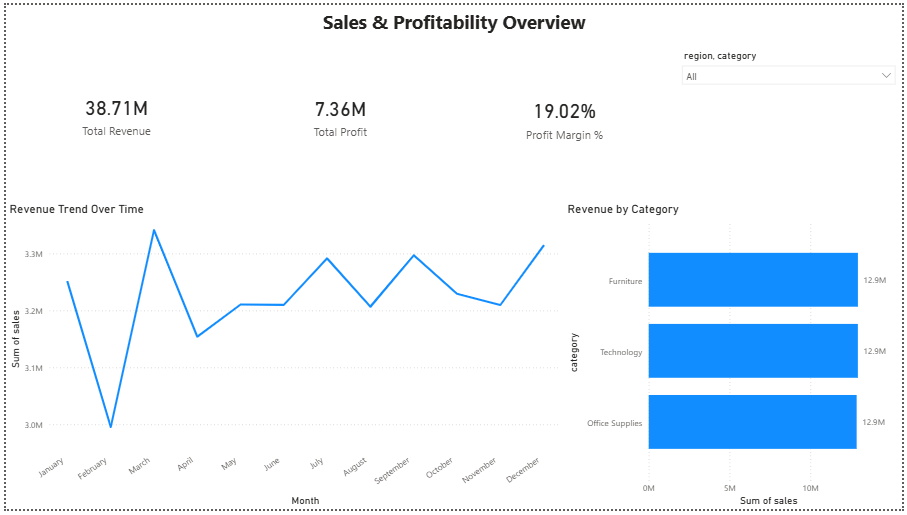

The page's visual inventory and layout, read from the dashboard file:
{"tool":"powerbi","page":{"name":"Sales & Profitability Overview","canvas":[1280,720],"ordinal":0},"visuals":[{"type":"card","fields":{"Values":["Sum(public sales_data.sales)"]},"box":[0,32,316,248],"z":0},{"type":"card","fields":{"Values":["Sum(public sales_data.profit)"]},"box":[316,32,324,250],"z":1000},{"type":"card","fields":{"Values":["public sales_data.Profit Margin %"]},"box":[640,38,316,244],"z":2000},{"type":"lineChart","title":"Revenue Trend Over Time","fields":{"Category":["public sales_data.order_date.Variation.Date Hierarchy.Month"],"Y":["Sum(public sales_data.sales)"]},"box":[0,281.4,797.7,439.5],"z":3000},{"type":"clusteredBarChart","title":"Revenue by Category","fields":{"Category":["public sales_data.category"],"Y":["Sum(public sales_data.sales)"]},"box":[797.7,281.4,481.4,439.5],"z":4000},{"type":"textbox","box":[0,0,1280,52.5],"z":5000},{"type":"slicer","fields":{"Values":["public sales_data.region","public sales_data.category"]},"box":[955.6,58.3,325,225],"z":6000}]}

Visuals, with their boxes in screenshot pixels (x1, y1, x2, y2), scaled from the page's 1280x720 canvas onto the 907x515 screenshot:
card - Sum(public sales_data.sales): 0:23:224:200
card - Sum(public sales_data.profit): 224:23:454:202
card - public sales_data.Profit Margin %: 454:27:677:202
"Revenue Trend Over Time" lineChart: 0:201:565:514
"Revenue by Category" clusteredBarChart: 565:201:906:514
textbox: 0:0:906:38
slicer - public sales_data.region x public sales_data.category: 677:42:906:203
